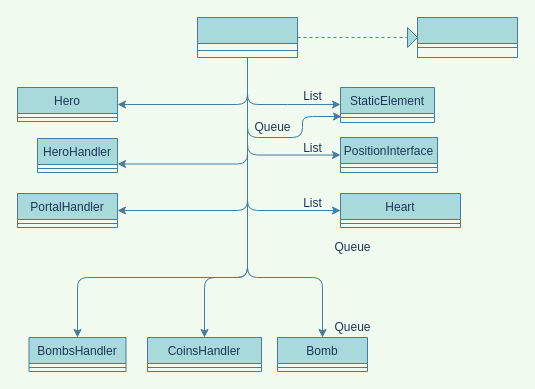
Image size: 535x389. Some labels were removed from this diagram. The centre of each missing label's shape, as x and y in pixels:
Maze: (x=247, y=37)
MazeInterface: (x=467, y=37)
